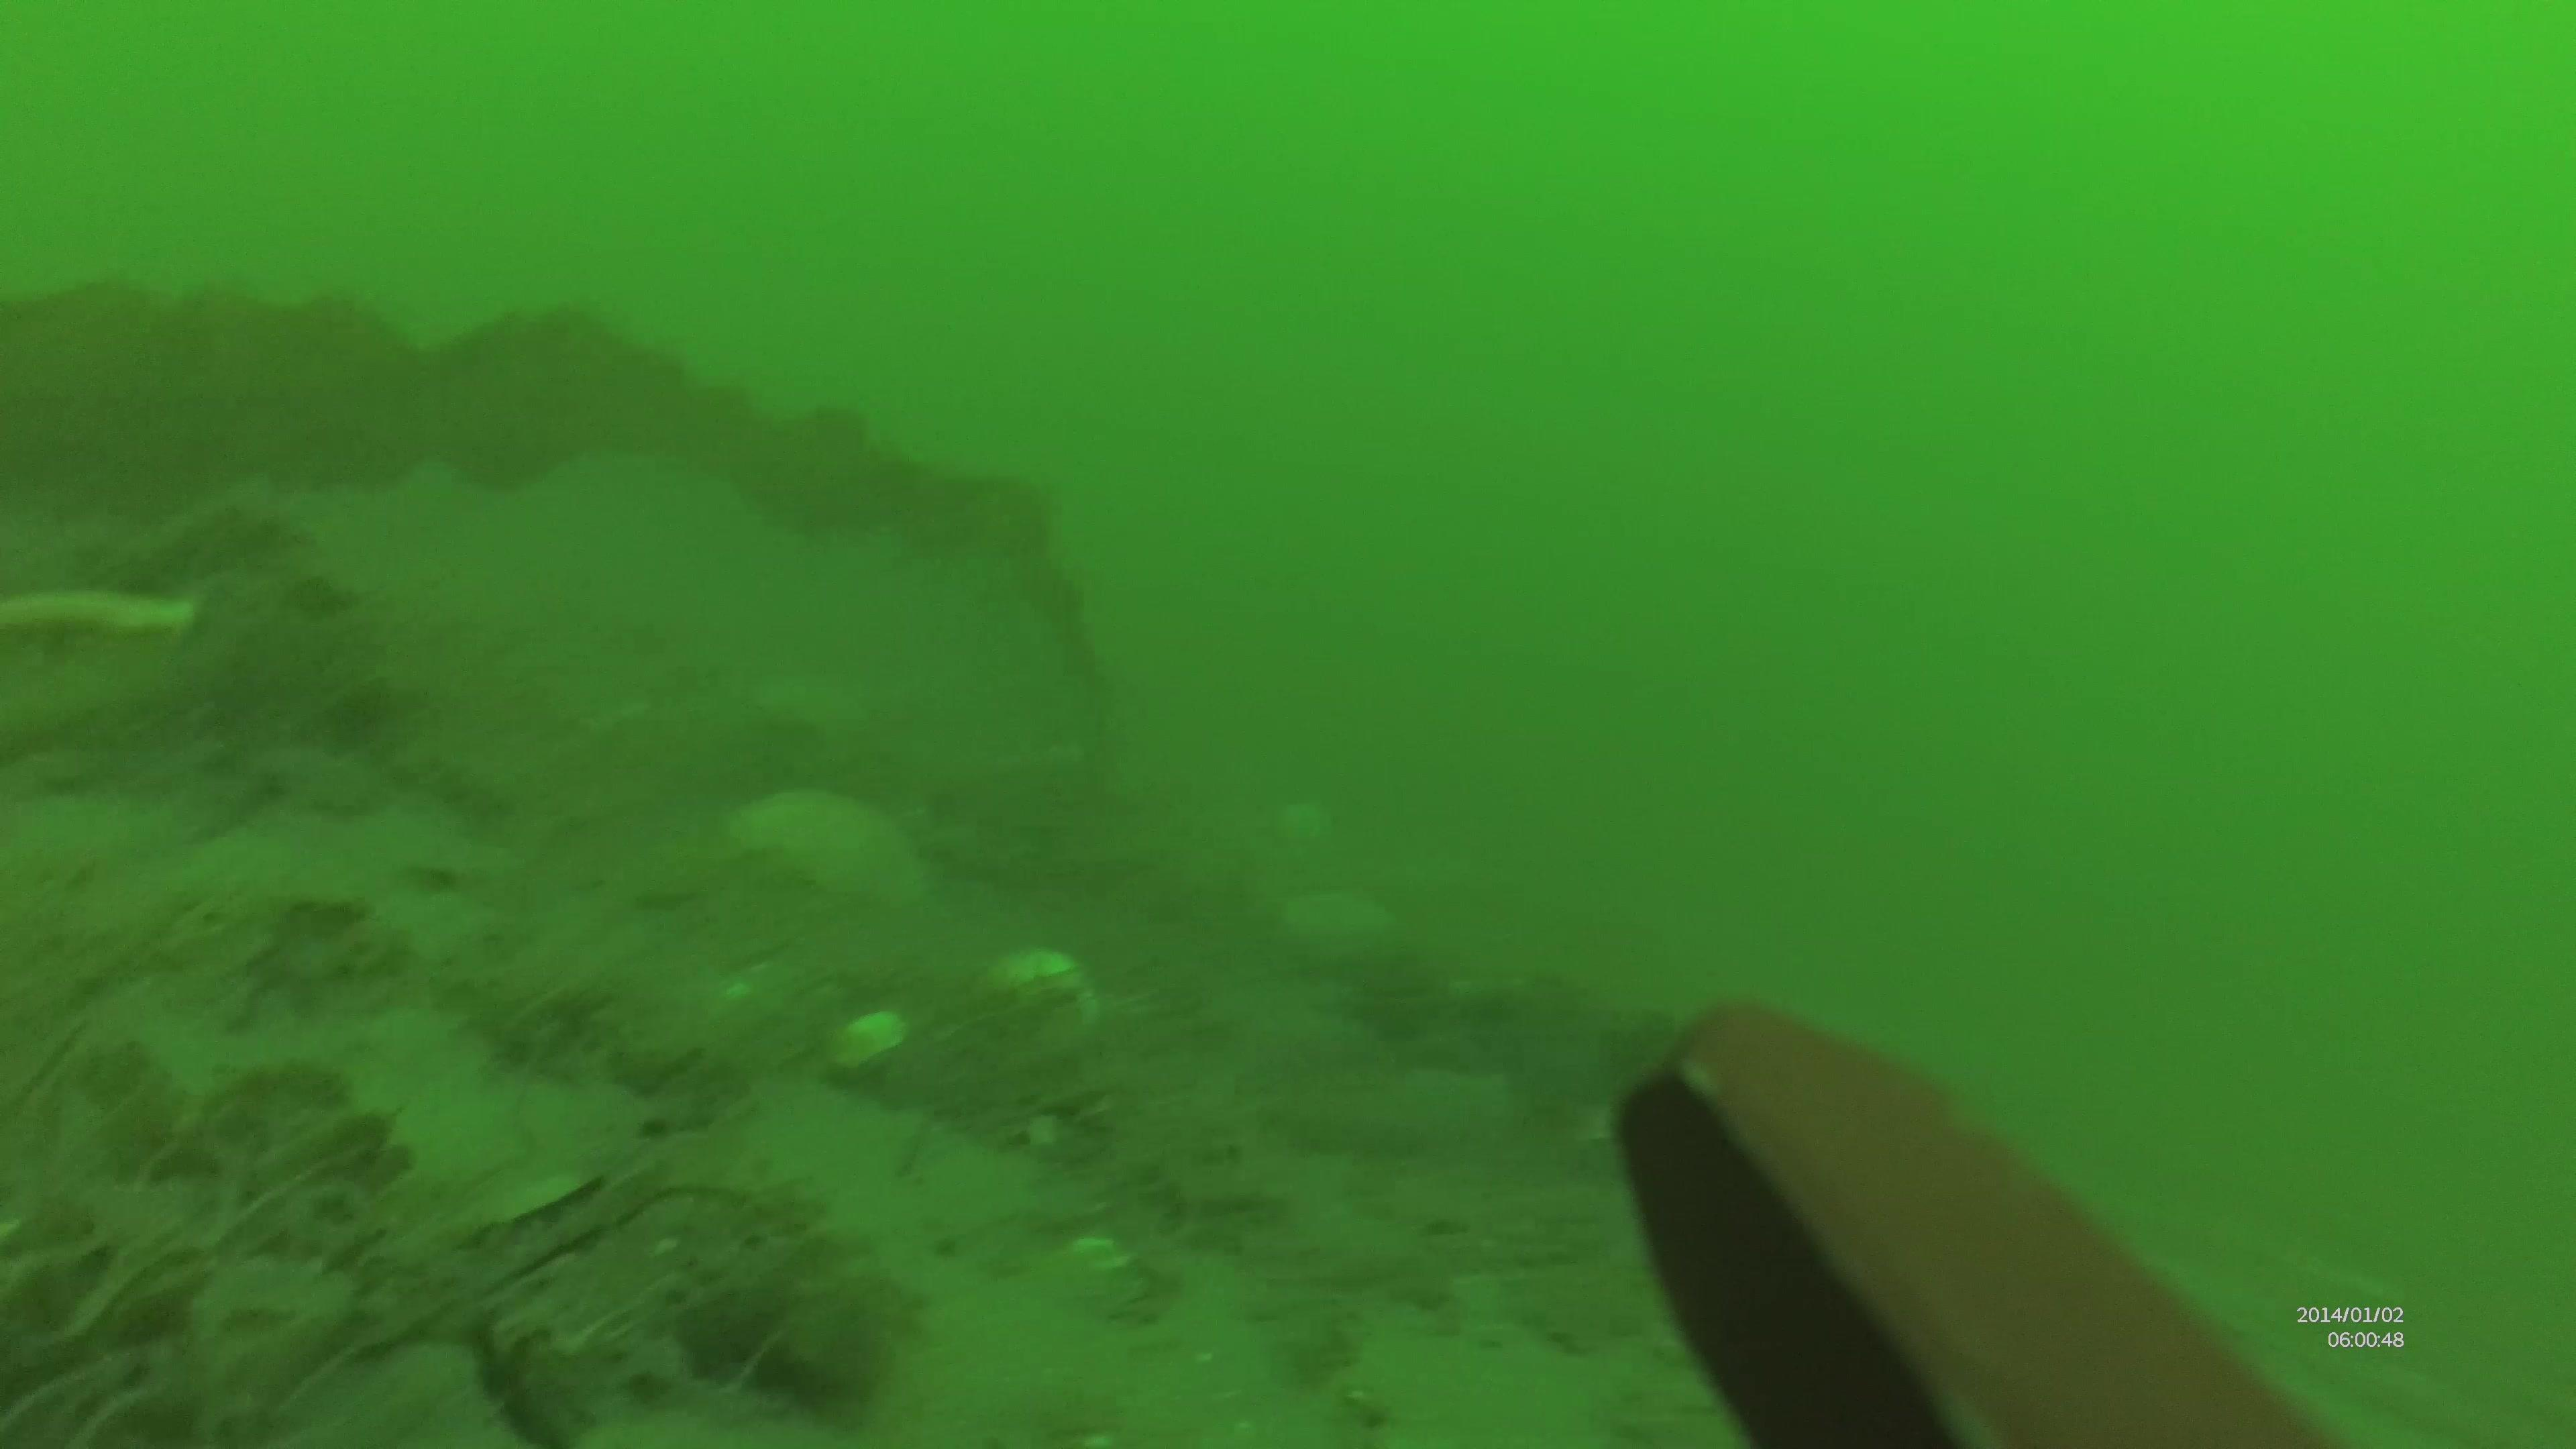scallop: (752, 669, 865, 734)
starfish: (708, 768, 932, 895)
